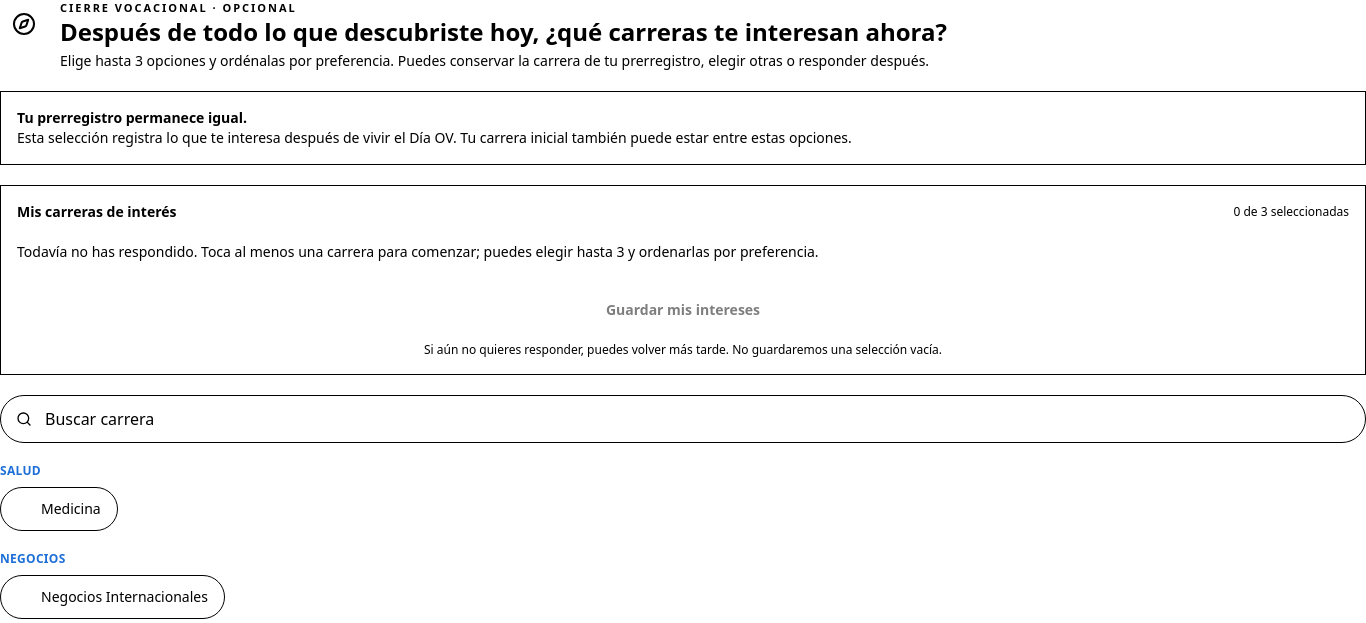
Test: permite conservar la carrera inicial, sumar otras y guarda el orden elegido
Click the button "Medicina". click: (59, 508)
box: [0,486,118,530]
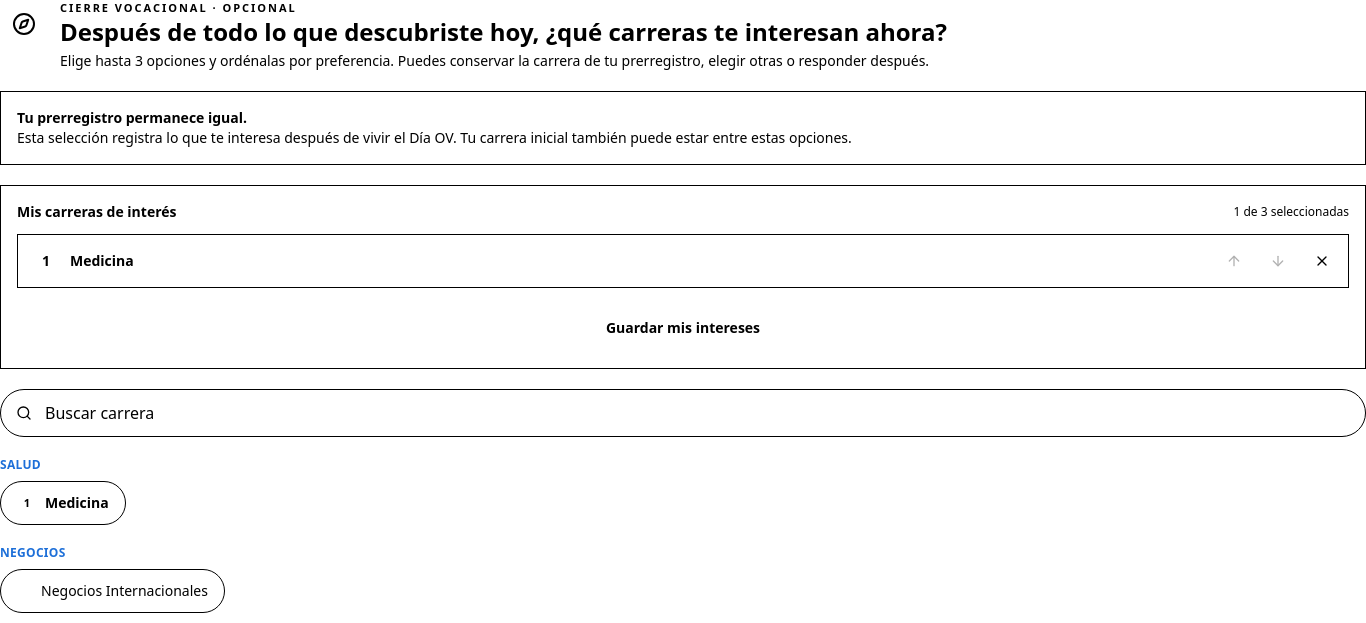
Click the button "Negocios Internacionales". click: (112, 590)
box: [0,568,225,612]
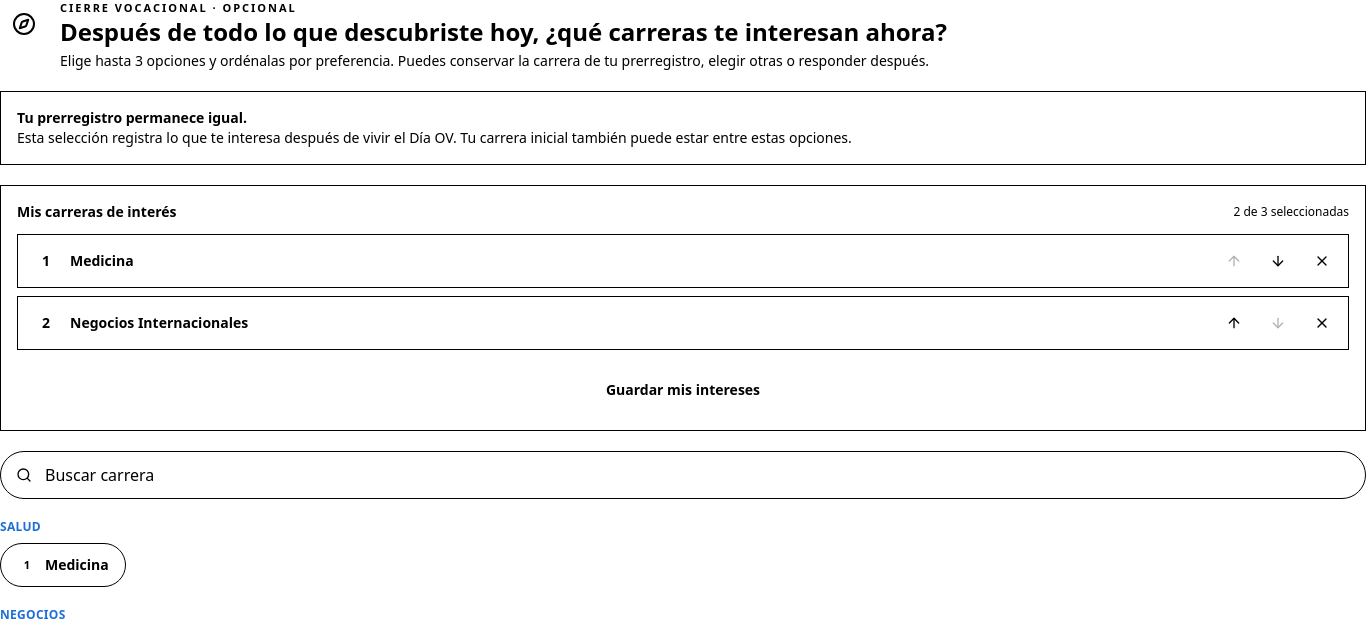
Click the button named "Subir Negocios Internacionales". click: (1234, 322)
box: [1212,300,1256,344]
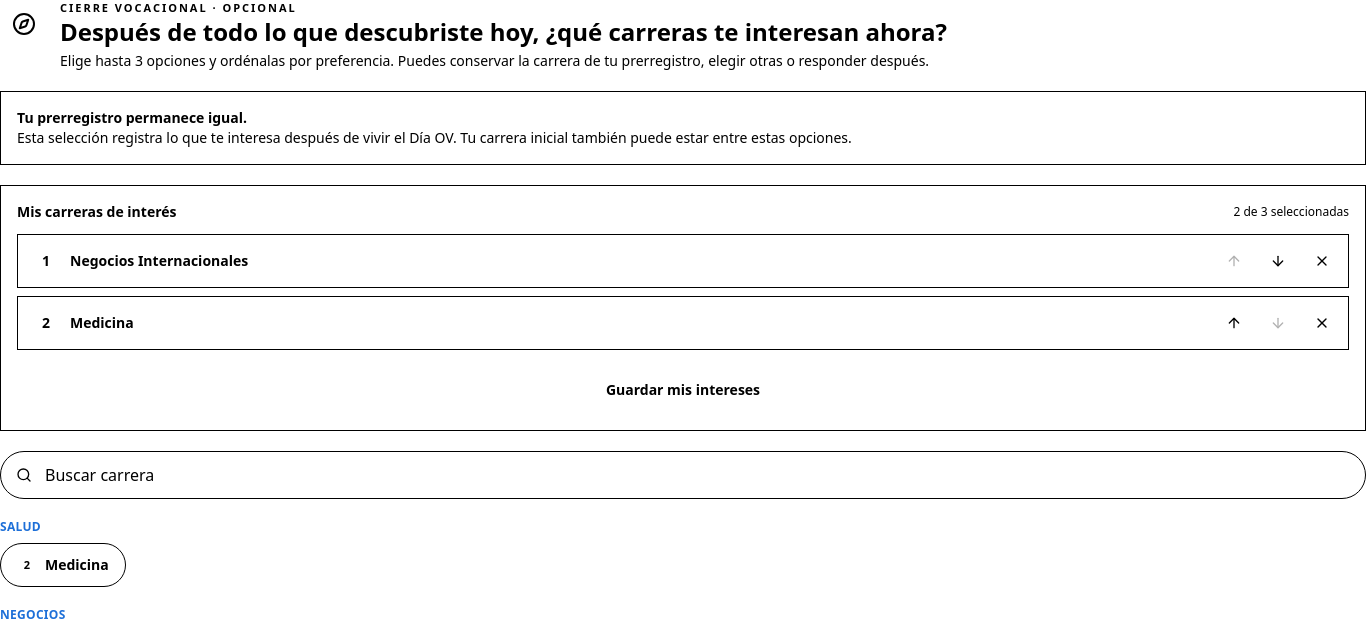
Click the button "Guardar mis intereses". click: (683, 390)
box: [17,366,1349,414]
(page scrolled)
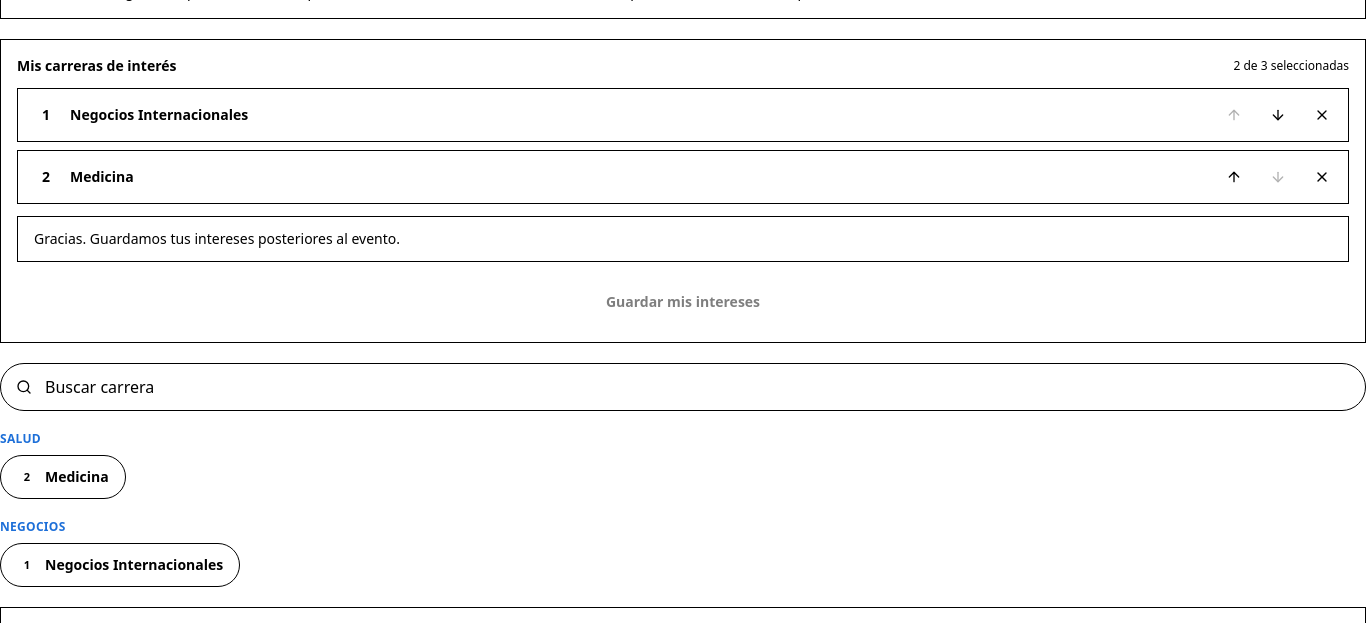
Now the text "Gracias. Guardamos tus intereses posteriores al evento." is shown, box [17,216,1349,262]
